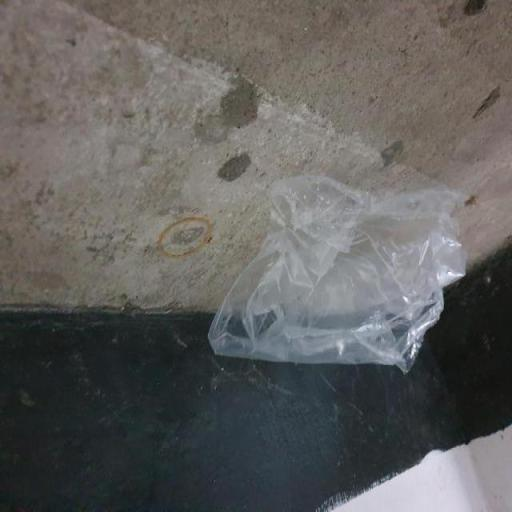plastic-bag: (205, 178, 470, 376)
